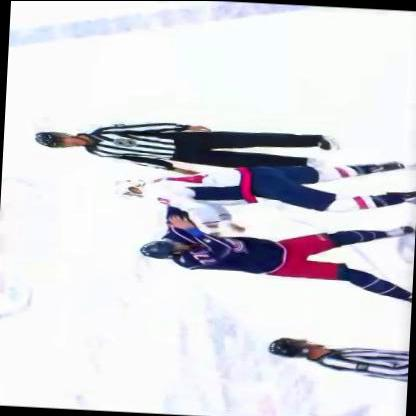voilence: (105, 146, 415, 290)
